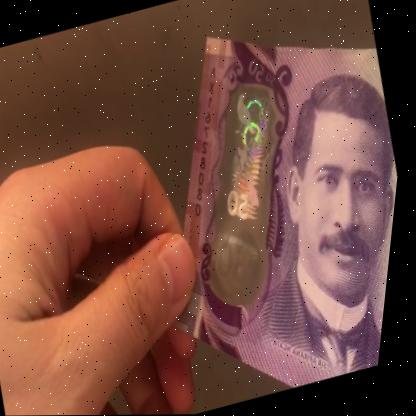50F: (176, 80, 321, 289)
